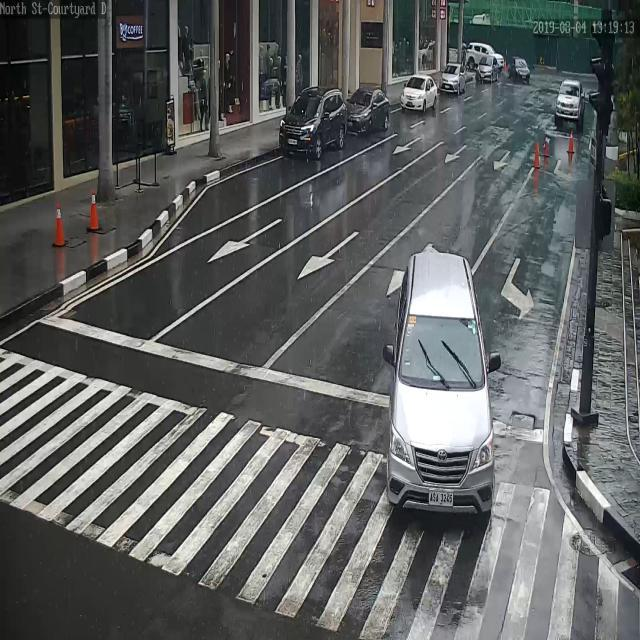car: (388, 249, 497, 518), (278, 85, 349, 156), (346, 87, 390, 134), (399, 73, 439, 114), (554, 78, 585, 125), (440, 62, 467, 94), (476, 56, 500, 84), (509, 54, 532, 81)
